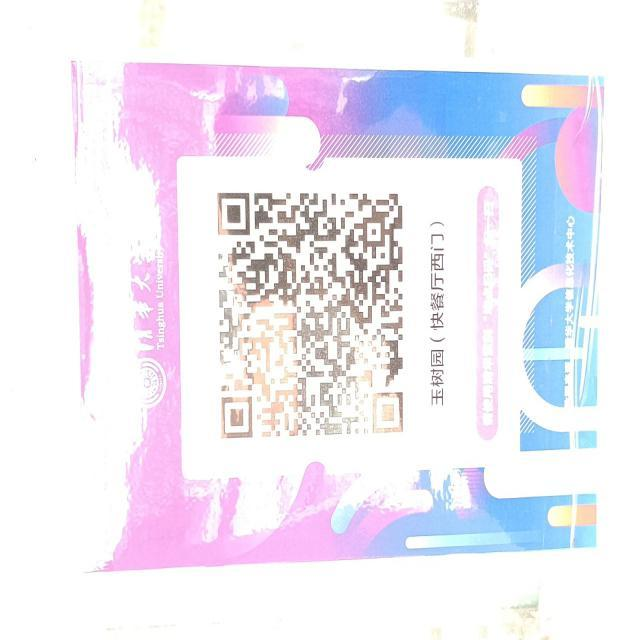qr_code: (217, 192, 404, 439)
